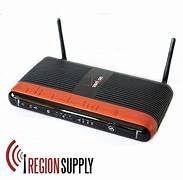Verizon Router: (6, 18, 183, 144)
